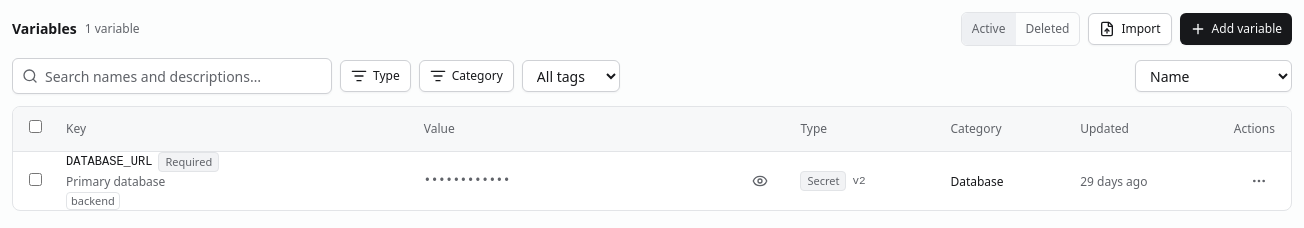
Test: VariablesPanel › hides the value when the row goes away (page, filter or environment change)
What coordinates should you click on to do the following:
click the button named "Reveal DATABASE_URL"
I would click on:
 (760, 180)
Its box is [744,164,776,196].
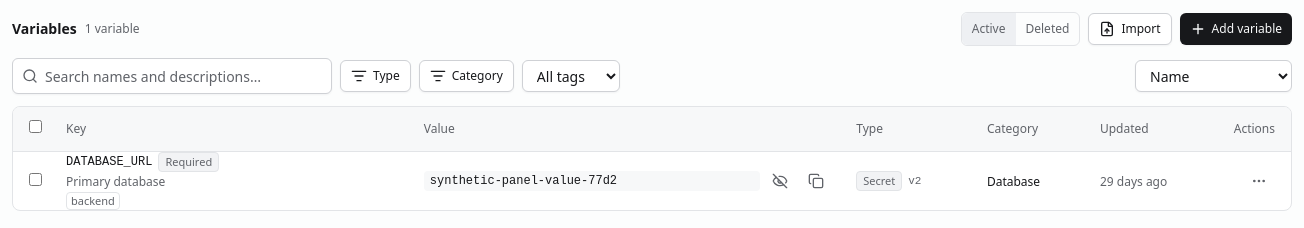
Expected: the text "synthetic-panel-value-77d2" is shown, [424,170,760,190]
